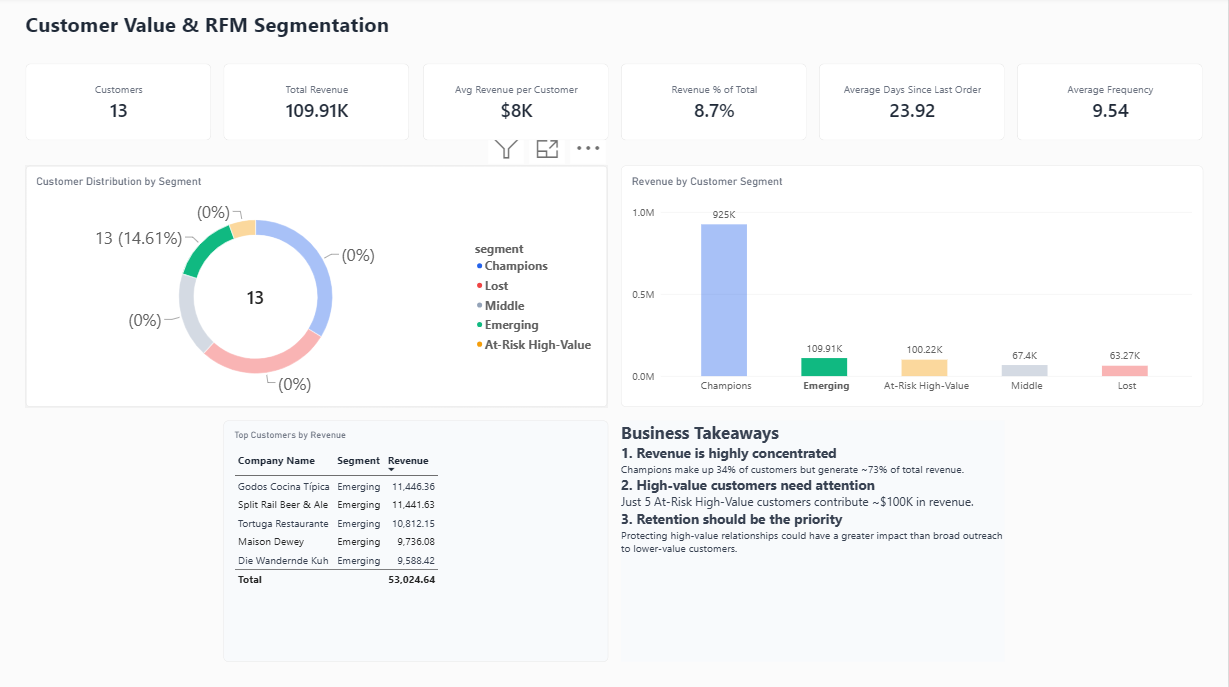

The dashboard page shown, as its layout file describes it:
{"tool":"powerbi","page":{"name":"Page 1","canvas":[1920,1080],"ordinal":0},"visuals":[{"type":"donutChart","title":"Customer Distribution by Segment","fields":{"Category":["public rfm_analysis.segment"],"Y":["CountNonNull(public rfm_analysis.segment)"]},"box":[40,265,910,377.5],"z":0},{"type":"cardVisual","fields":{"Data":["public rfm_analysis.Total Revenue1"]},"box":[350,105,290,120],"z":2},{"type":"cardVisual","fields":{"Data":["public rfm_analysis.Customers"]},"box":[40,105,290,120],"z":3},{"type":"cardVisual","fields":{"Data":["public rfm_analysis.Avg Revenue per Customer"]},"box":[660,105,290,120],"z":4},{"type":"cardVisual","fields":{"Data":["public rfm_analysis.Revenue % of Total"]},"box":[970,105,290,120],"z":6},{"type":"columnChart","title":"Revenue by Customer Segment","fields":{"Category":["public rfm_analysis.segment"],"Y":["public rfm_analysis.Total Revenue"]},"box":[970,265,910,377.5],"z":7},{"type":"cardVisual","fields":{"Data":["public rfm_analysis.Median Days Since Last Order"]},"box":[1280,105,290,120],"z":8},{"type":"cardVisual","fields":{"Data":["public rfm_analysis.Average Order Duration"]},"box":[1590,105,290,120],"z":9},{"type":"tableEx","title":"Top Customers by Revenue","fields":{"Values":["public rfm_analysis.company_name","public rfm_analysis.segment","public rfm_analysis.Total Revenue"]},"box":[349.6,663.2,601.3,377.5],"z":10},{"type":"textbox","box":[40,20,600,65],"z":11},{"type":"textbox","box":[970.8,663.2,599.3,377.5],"z":12}]}

Visuals, with their boxes in screenshot pixels (x1, y1, x2, y2), scaled from the page's 1920x1080 canvas onto the 1229x687 screenshot:
"Customer Distribution by Segment" donutChart: bbox(26, 169, 608, 409)
cardVisual - public rfm_analysis.Total Revenue1: bbox(224, 67, 410, 143)
cardVisual - public rfm_analysis.Customers: bbox(26, 67, 211, 143)
cardVisual - public rfm_analysis.Avg Revenue per Customer: bbox(422, 67, 608, 143)
cardVisual - public rfm_analysis.Revenue % of Total: bbox(621, 67, 807, 143)
"Revenue by Customer Segment" columnChart: bbox(621, 169, 1203, 409)
cardVisual - public rfm_analysis.Median Days Since Last Order: bbox(819, 67, 1005, 143)
cardVisual - public rfm_analysis.Average Order Duration: bbox(1018, 67, 1203, 143)
"Top Customers by Revenue" tableEx: bbox(224, 422, 609, 662)
textbox: bbox(26, 13, 410, 54)
textbox: bbox(621, 422, 1005, 662)
